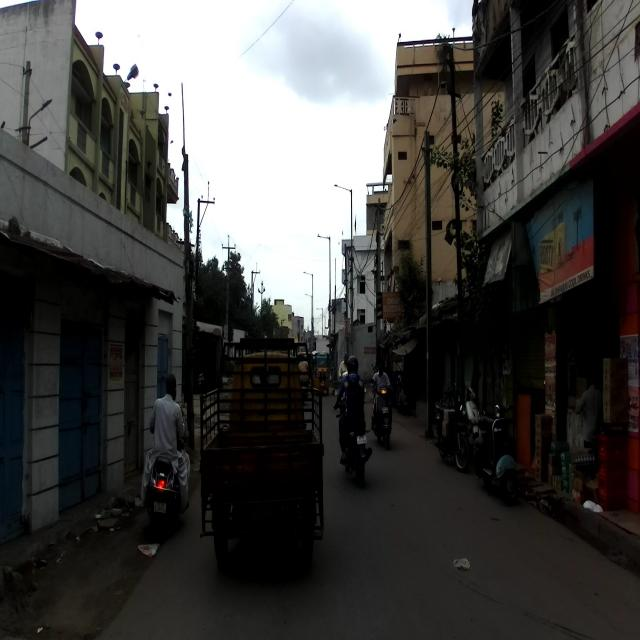autorickshaw: (198, 334, 325, 580)
motorcycle_TVS: (432, 379, 471, 473)
motorcycle_bajaj: (332, 397, 373, 490)
scooter: (470, 397, 522, 508), (144, 431, 189, 540), (368, 376, 396, 451)
